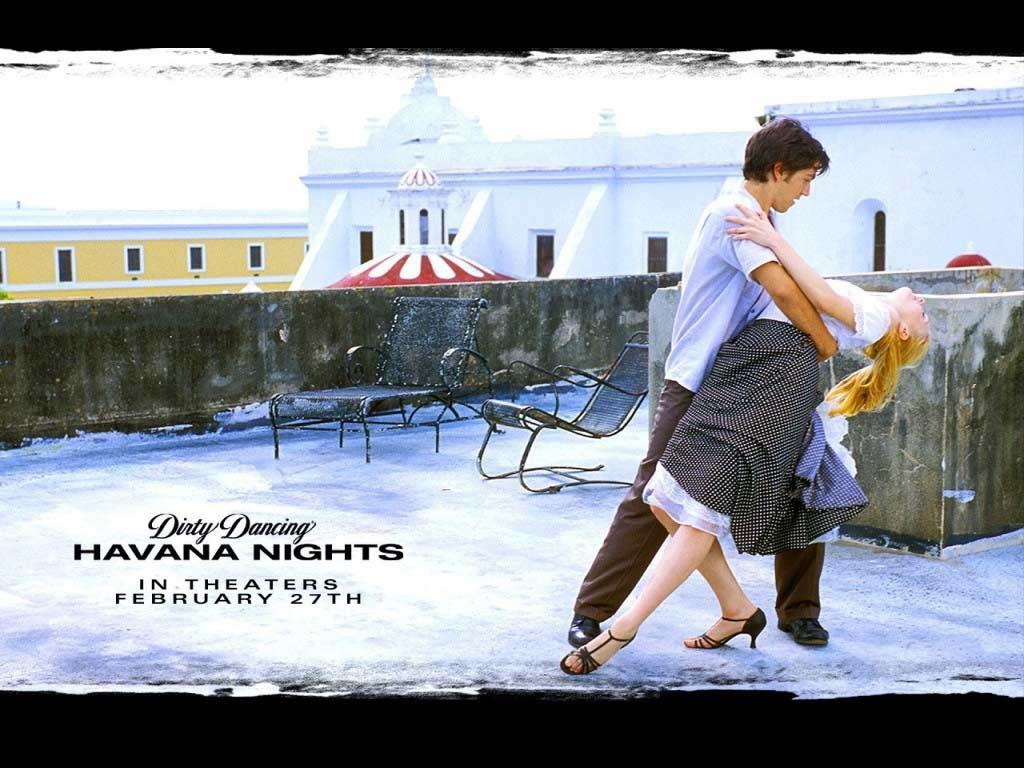face: (774, 161, 815, 211), (894, 286, 931, 334)
